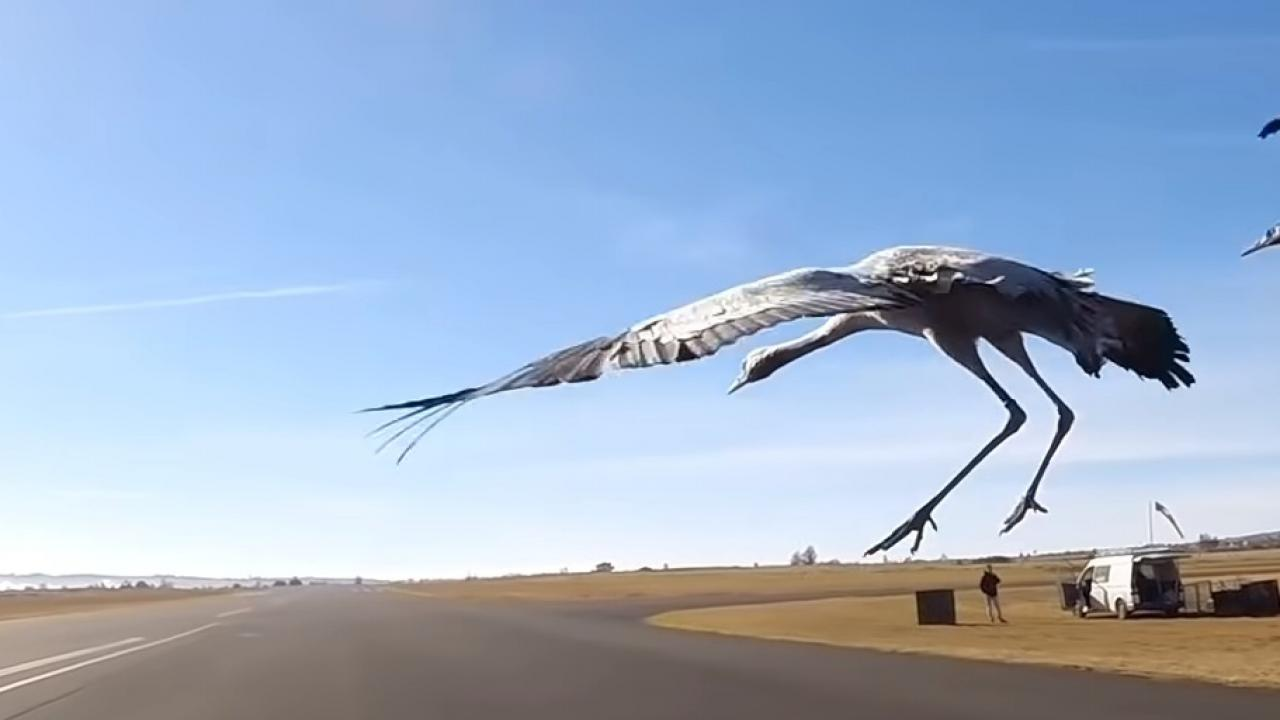Bird: (336, 236, 1210, 578)
